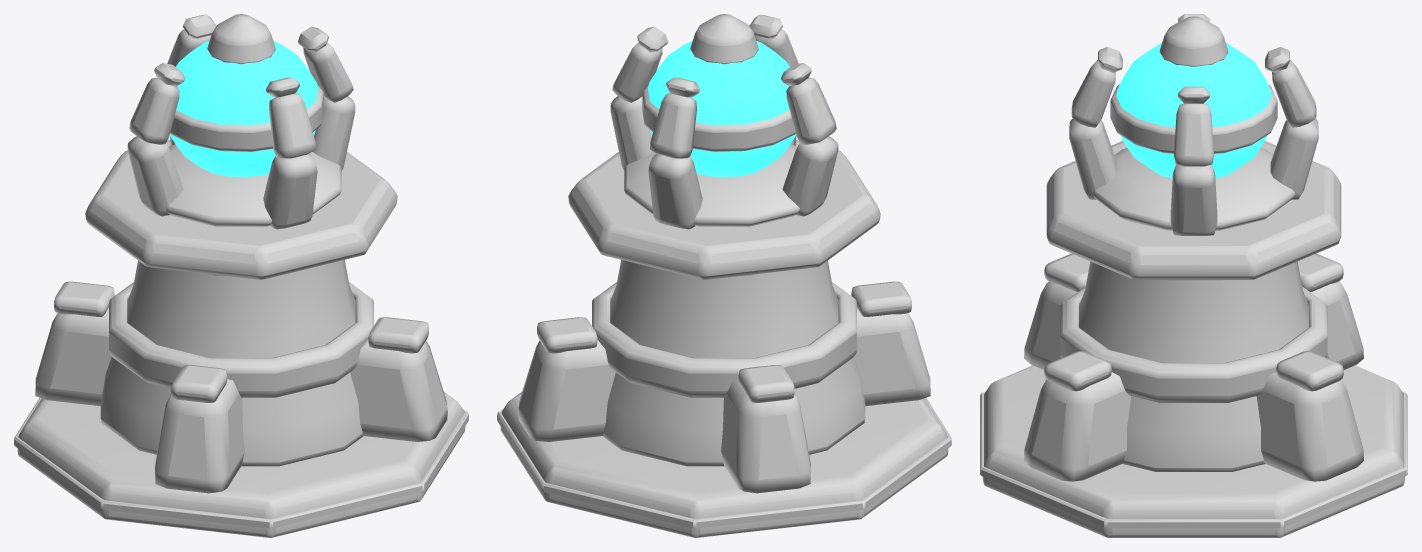
File: SM_PulseTower.fbx
3 views of the same model, side by side, from view 1: azimuth 30°, elevation 25°; view 2: azimuth 150°, elevation 25°; view 3: azimuth 270°, elevation 25° (orthographic).
Parts seen in each view (by area): view 1: PulseTower, Spinner; view 2: PulseTower, Spinner; view 3: PulseTower, Spinner.
Boxes of the visible parts, left/top/right/bottom form: PulseTower: left=14, top=140, right=468, bottom=537; Spinner: left=127, top=14, right=355, bottom=229; PulseTower: left=497, top=140, right=951, bottom=537; Spinner: left=610, top=14, right=838, bottom=229; PulseTower: left=980, top=141, right=1407, bottom=537; Spinner: left=1069, top=14, right=1318, bottom=235.
Size of the model in its own units: 3.3 by 3.67 by 3.3.
